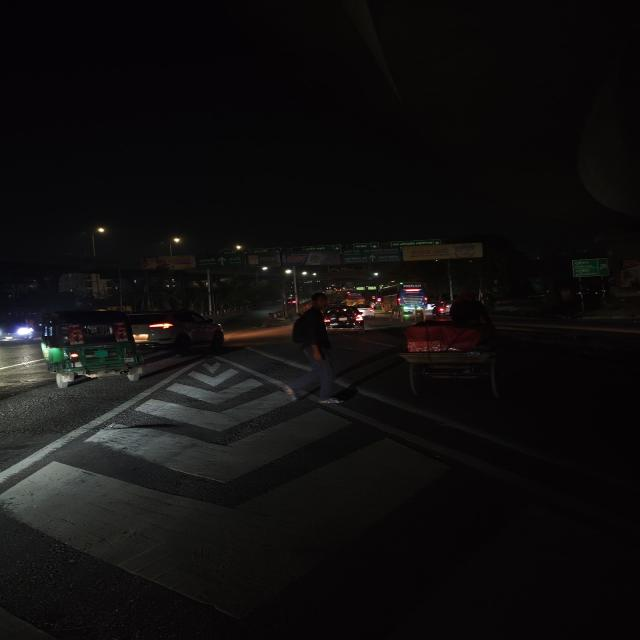bus: (394, 282, 432, 313), (345, 288, 367, 306)
car: (132, 308, 227, 349), (324, 305, 368, 333)
cng: (39, 309, 141, 391)
motorcycle: (431, 299, 452, 319)
pedestrian: (289, 296, 339, 410)
rickshaw: (395, 292, 512, 393)
